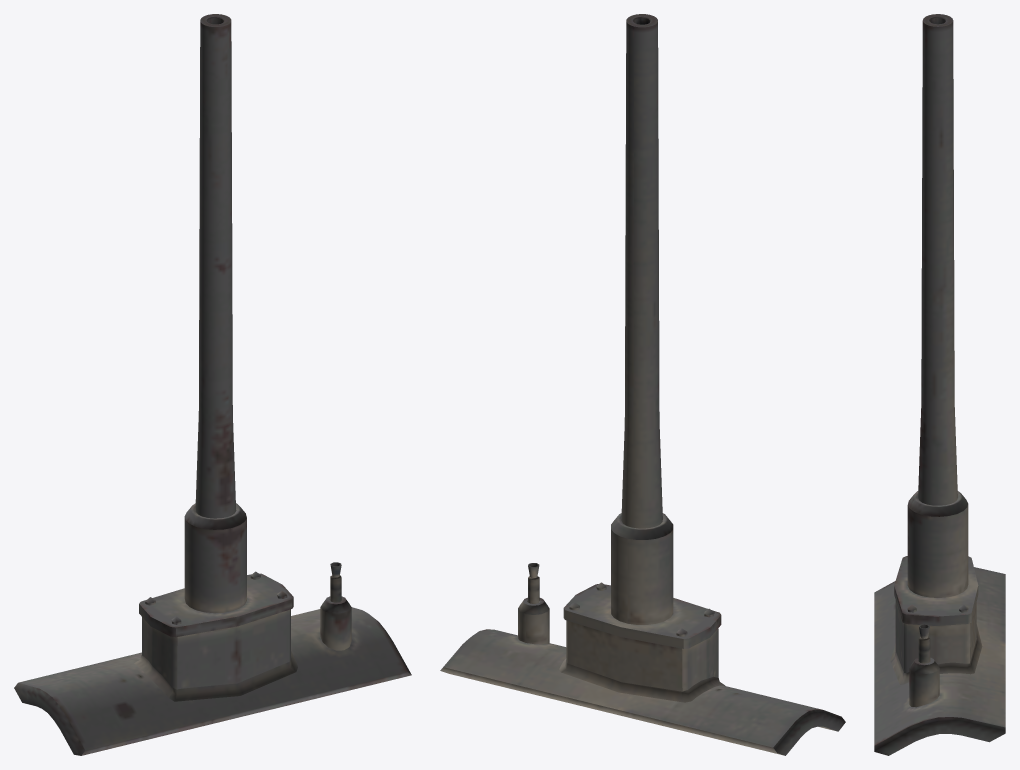
Rendered from Gun_02.glb.
3 renders of one model, left to right at view 1: azimuth 30°, elevation 25°; view 2: azimuth 150°, elevation 25°; view 3: azimuth 270°, elevation 25°, orthographic. The views are drawn at different scales.
Visible parts, largest first — view 1: set_0_group_0; view 2: set_0_group_0; view 3: set_0_group_0.
Boxes of the visible parts, bbox=[...] form: set_0_group_0: bbox=[14, 14, 411, 755]; set_0_group_0: bbox=[440, 14, 845, 755]; set_0_group_0: bbox=[874, 14, 1005, 755].
Bounding box in the file's own units: 1.18 × 2.3 × 0.4137.
1 material, 1 textured.
